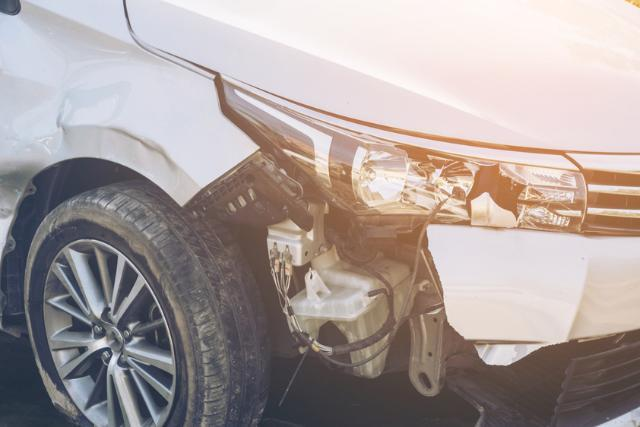Bumper: (264, 230, 640, 427)
Fender: (46, 72, 242, 204)
Light: (278, 121, 580, 235)
